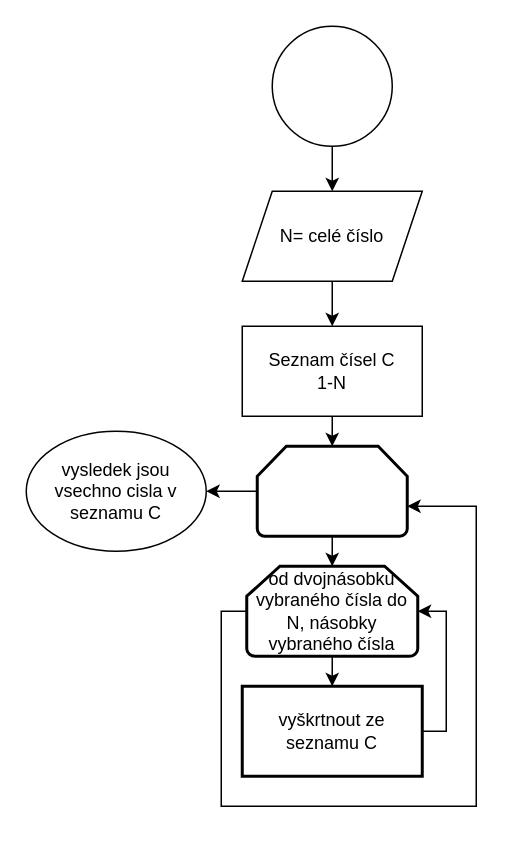
This 515x845 diagram has some shape labels left out. Each missing label, with the centre of its shape:
"Eratosterovo sito" goes at pixel 331 85.
"od 2 do odmocniny z N která jsou v seznamu C" goes at pixel 331 490.
